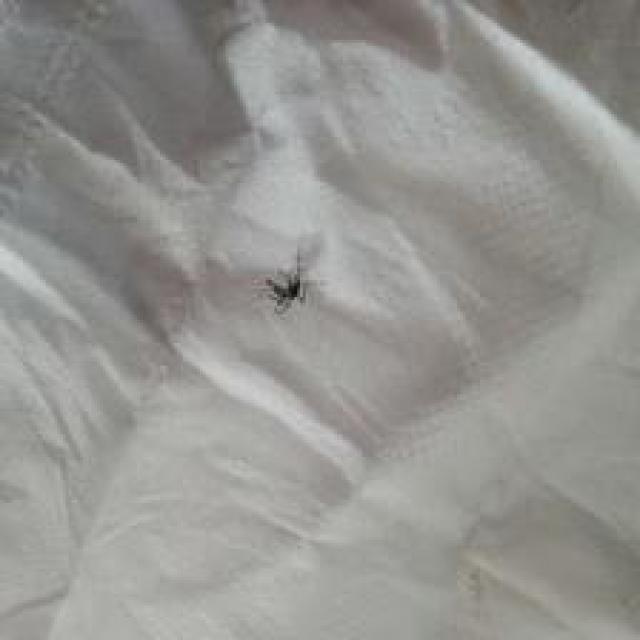Aedes albopictus: (261, 249, 310, 314)
